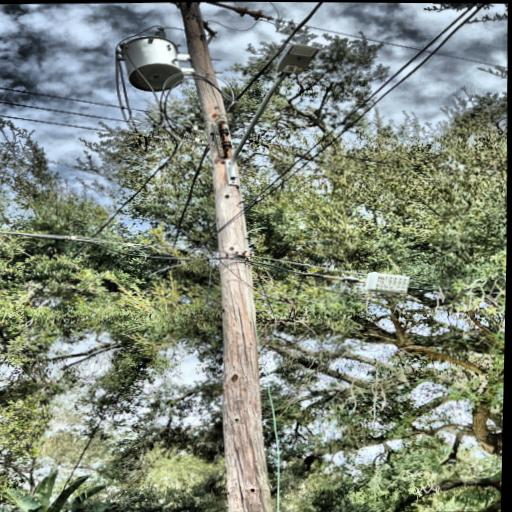pole: (147, 1, 328, 512)
street light: (218, 41, 325, 186)
transformer: (117, 34, 187, 95)
